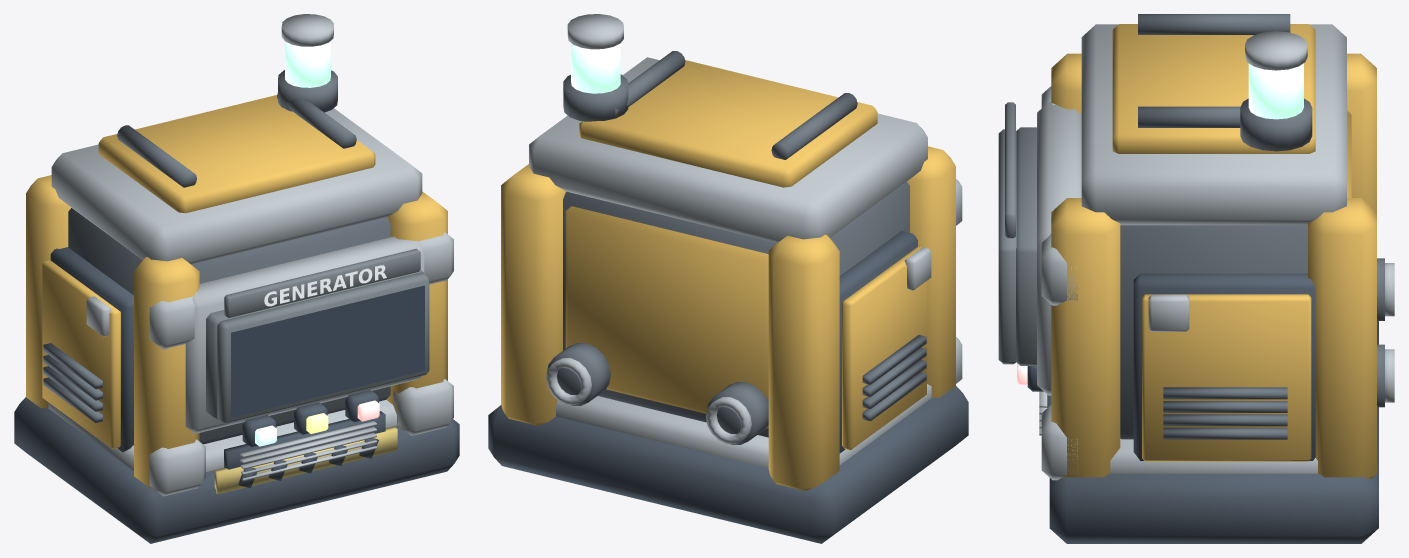
File: generator_standard.glb
3 views of the same model, side by side, from view 1: azimuth 30°, elevation 25°; view 2: azimuth 150°, elevation 25°; view 3: azimuth 270°, elevation 25° (orthographic). The views are drawn at different scales.
Parts seen in each view (by area): view 1: TopCap_steel_legacy_10, Base_black_legacy_0, Frame_orange_legacy_4, RoofPanel_orange_legacy_11, LiveViewSurface_glass, CornerGuard_steel_legacy_5, Housing_dark_legacy_2, ServiceDoor_orange_legacy_7, DisplayFrame_steel_legacy_13, LiveViewSurfaceFrame_frame, TypePlate_frame, SidePanel_black_legacy_6 (+13 smaller); view 2: Frame_orange_legacy_4, Armor_orange_legacy_3, Base_black_legacy_0, TopCap_steel_legacy_10, RoofPanel_orange_legacy_11, ServiceDoor_orange_legacy_7, Housing_dark_legacy_2, Skirt_steel_legacy_1, RearPort_dark_legacy_29, LiftRail_dark_legacy_12, SideVents_dark_legacy_8, SidePanel_black_legacy_6 (+6 smaller); view 3: Frame_orange_legacy_4, TopCap_steel_legacy_10, Base_black_legacy_0, ServiceDoor_orange_legacy_7, RoofPanel_orange_legacy_11, Housing_dark_legacy_2, DisplayFrame_steel_legacy_13, SideVents_dark_legacy_8, SidePanel_black_legacy_6, LiftRail_dark_legacy_12, ScreenMount_frame, CornerGuard_steel_legacy_5 (+9 smaller).
Part boxes in pixels (box(x1,y1,x2,y2)): TopCap_steel_legacy_10: box(51, 108, 422, 264); Base_black_legacy_0: box(14, 397, 459, 543); Frame_orange_legacy_4: box(26, 175, 447, 491); RoofPanel_orange_legacy_11: box(98, 95, 375, 213); LiveViewSurface_glass: box(231, 285, 424, 417); CornerGuard_steel_legacy_5: box(149, 232, 453, 496); Housing_dark_legacy_2: box(68, 208, 390, 444); ServiceDoor_orange_legacy_7: box(42, 260, 120, 449); DisplayFrame_steel_legacy_13: box(185, 236, 424, 433); LiveViewSurfaceFrame_frame: box(217, 272, 429, 423); TypePlate_frame: box(224, 248, 420, 318); SidePanel_black_legacy_6: box(50, 247, 133, 452); Frame_orange_legacy_4: box(501, 146, 955, 490); Armor_orange_legacy_3: box(565, 206, 768, 428); Base_black_legacy_0: box(488, 386, 968, 543); TopCap_steel_legacy_10: box(529, 57, 927, 242); RoofPanel_orange_legacy_11: box(579, 60, 877, 187); ServiceDoor_orange_legacy_7: box(842, 246, 926, 450); Housing_dark_legacy_2: box(563, 181, 909, 437); Skirt_steel_legacy_1: box(556, 384, 931, 468); RearPort_dark_legacy_29: box(546, 343, 768, 444); LiftRail_dark_legacy_12: box(615, 51, 857, 159); SideVents_dark_legacy_8: box(862, 335, 926, 421); SidePanel_black_legacy_6: box(839, 231, 917, 453); Frame_orange_legacy_4: box(1051, 53, 1376, 478); TopCap_steel_legacy_10: box(1081, 24, 1346, 225); Base_black_legacy_0: box(1049, 321, 1378, 543); ServiceDoor_orange_legacy_7: box(1142, 294, 1311, 461); RoofPanel_orange_legacy_11: box(1112, 24, 1315, 153); Housing_dark_legacy_2: box(1120, 225, 1307, 439); DisplayFrame_steel_legacy_13: box(1037, 102, 1081, 395); SideVents_dark_legacy_8: box(1163, 387, 1287, 439); SidePanel_black_legacy_6: box(1133, 273, 1315, 460); LiftRail_dark_legacy_12: box(1138, 14, 1290, 127); ScreenMount_frame: box(1016, 127, 1036, 365); CornerGuard_steel_legacy_5: box(1041, 86, 1077, 480).
Size of the model in its own units: 1.43 by 1.65 by 1.27.
